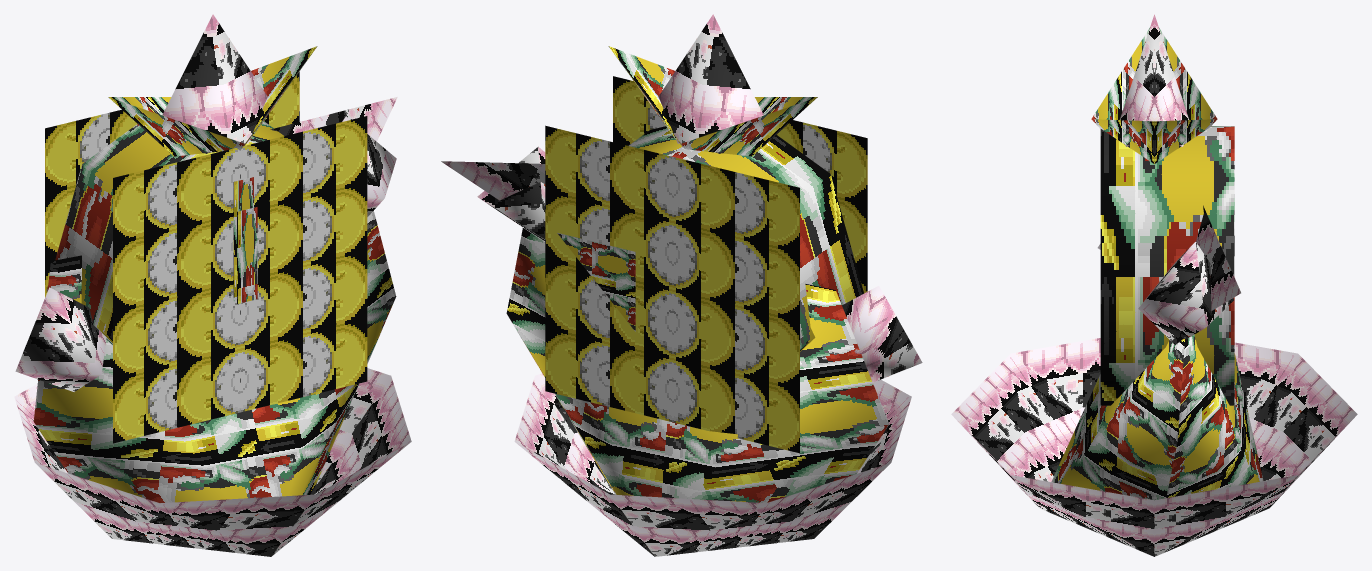
Rendered from 3099imrl07_08.gltf.
3 renders of one model, left to right at view 1: azimuth 30°, elevation 25°; view 2: azimuth 150°, elevation 25°; view 3: azimuth 270°, elevation 25°, orthographic.
Parts seen in each view (by area): view 1: 3099imrl07_08; view 2: 3099imrl07_08; view 3: 3099imrl07_08.
Boxes of the visible parts, left/top/right/bottom form: 3099imrl07_08: left=14, top=14, right=411, bottom=556; 3099imrl07_08: left=441, top=14, right=922, bottom=556; 3099imrl07_08: left=951, top=14, right=1357, bottom=556.
Size of the model in its own units: 0.8813 by 0.9746 by 0.7266.
Materials: 3 (3 with a texture image).
